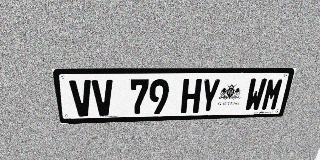7: (129, 79, 149, 115)
9: (149, 79, 169, 114)
H: (181, 79, 202, 113)
M: (260, 78, 285, 111)
V: (69, 80, 94, 117), (91, 80, 114, 116)
W: (244, 78, 268, 111)
Y: (199, 79, 221, 113)
